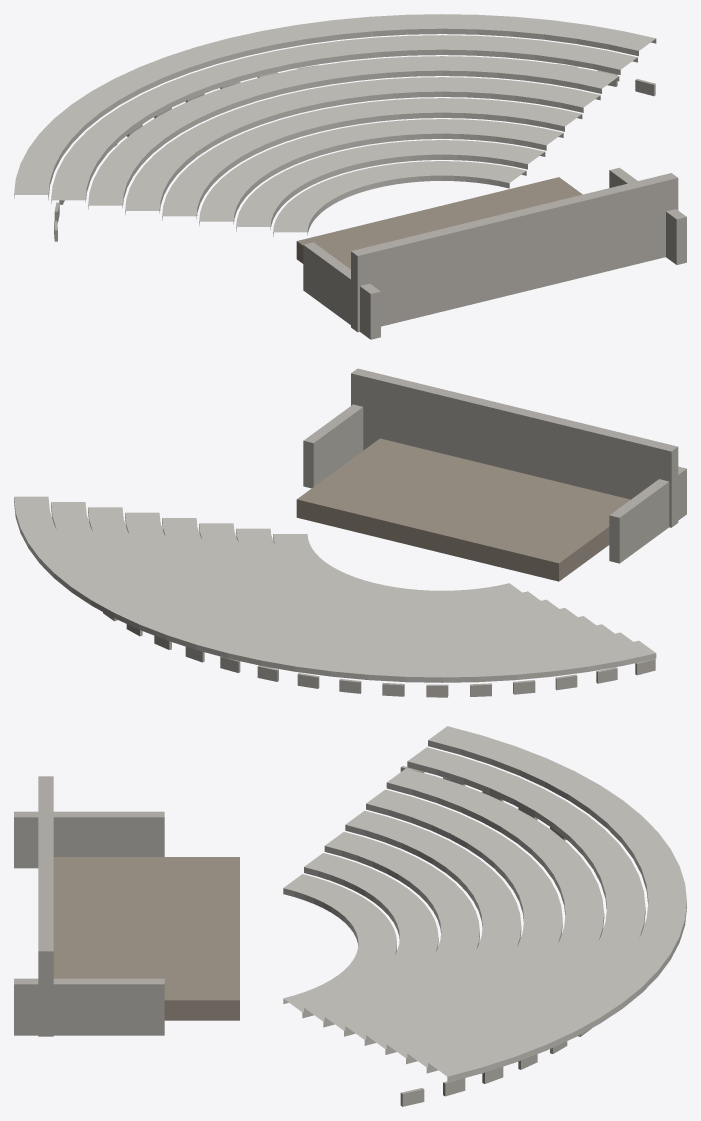
File: cp_delacorte.glb
3 renders of one model, top to bottom at view 1: azimuth 30°, elevation 25°; view 2: azimuth 150°, elevation 25°; view 3: azimuth 270°, elevation 25°, orthographic. The views are drawn at different scales.
Parts seen in each view (by area): view 1: DelacorteTheater; view 2: DelacorteTheater; view 3: DelacorteTheater.
Boxes of the visible parts, left/top/right/bottom form: DelacorteTheater: left=14, top=14, right=686, bottom=339; DelacorteTheater: left=14, top=368, right=686, bottom=697; DelacorteTheater: left=14, top=726, right=686, bottom=1106.
Bounding box in the file's own units: 44.08 × 5 × 35.75.
